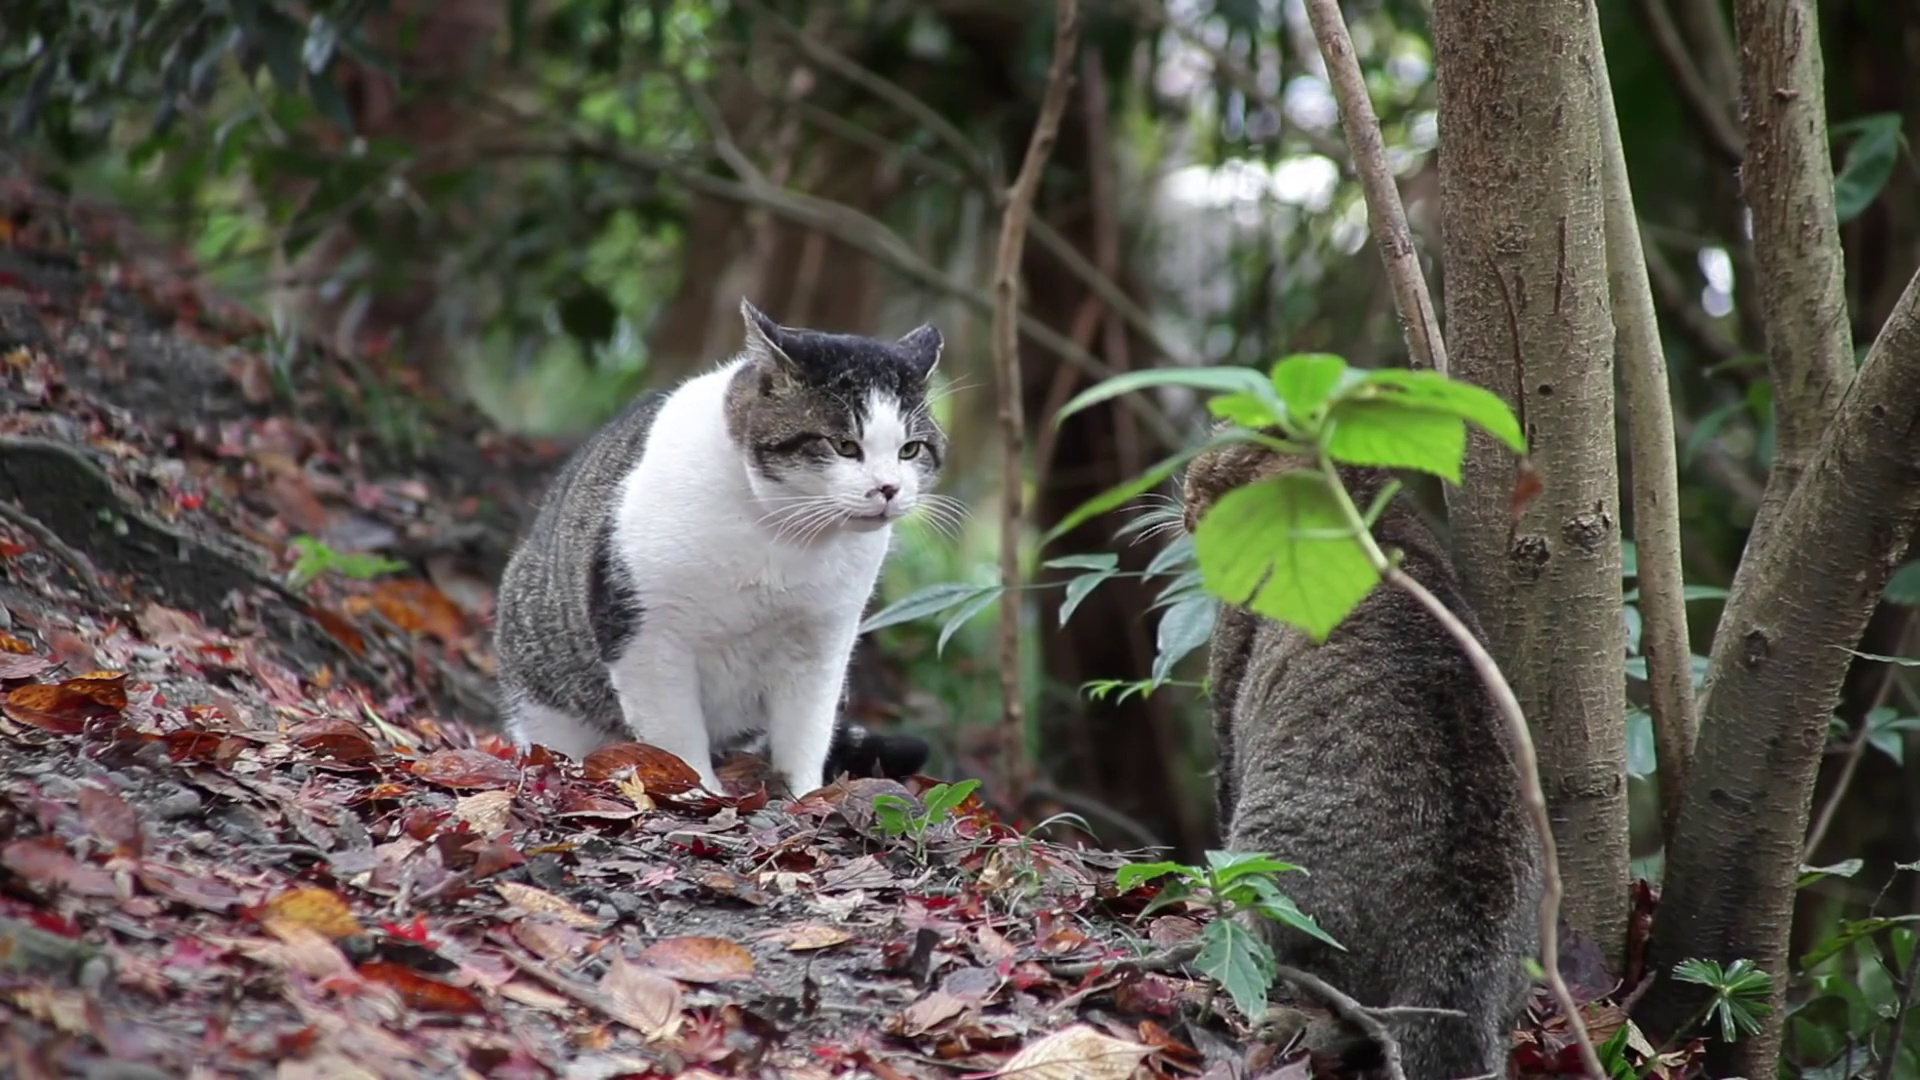black-white: (492, 299, 945, 807)
pure black: (1178, 429, 1553, 1039)
